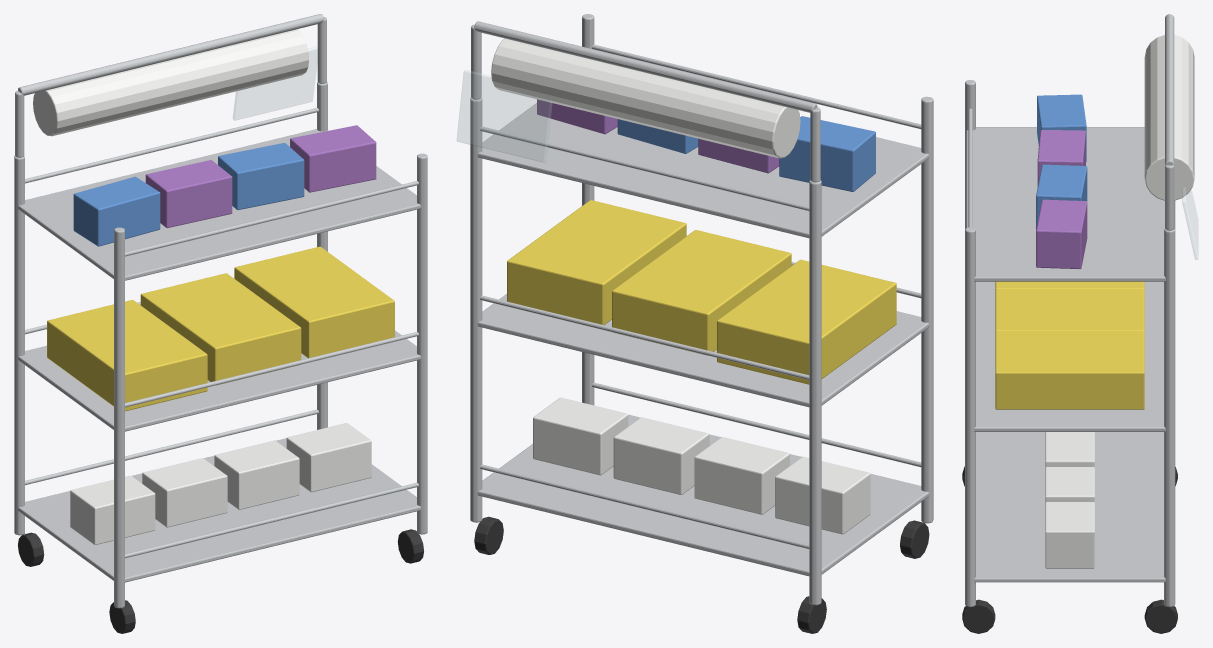
The model's file is ppe_trolley.glb.
3 renders of one model, left to right at view 1: azimuth 30°, elevation 25°; view 2: azimuth 150°, elevation 25°; view 3: azimuth 270°, elevation 25°, orthographic. The views are drawn at different scales.
Visible parts, largest first — view 1: ppe_trolley; view 2: ppe_trolley; view 3: ppe_trolley.
Boxes of the visible parts, x1,y1,x2,y2 form: ppe_trolley: [14, 14, 427, 633]; ppe_trolley: [457, 14, 933, 633]; ppe_trolley: [962, 14, 1198, 633].
Bounding box in the file's own units: 0.8667 × 1.26 × 0.5702.
